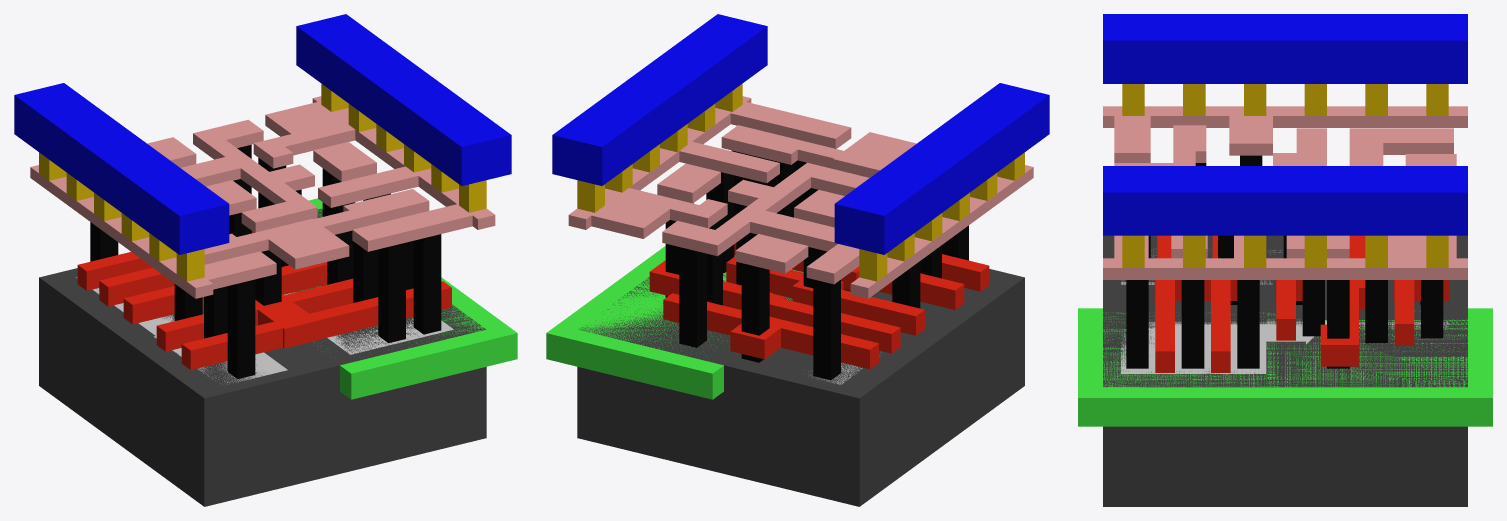
File: sky130_fd_sc_hd__and3_2.obj
The picture shows the model from 3 angles, left to right: view 1: azimuth 30°, elevation 25°; view 2: azimuth 150°, elevation 25°; view 3: azimuth 270°, elevation 25°; orthographic projection. The views are drawn at different scales.
Visible parts, largest first — view 1: subs, metal1, li, licon, poly, nwell, mcon, tap, diff; view 2: subs, metal1, li, poly, licon, nwell, mcon; view 3: metal1, subs, nwell, li, licon, poly, mcon, tap.
Part boxes in pixels (x1=…): subs: x1=39, y1=208, x2=486, y2=506; metal1: x1=14, y1=14, x2=511, y2=254; li: x1=30, y1=96, x2=495, y2=298; licon: x1=90, y1=144, x2=441, y2=378; poly: x1=77, y1=231, x2=451, y2=369; nwell: x1=295, y1=198, x2=517, y2=399; mcon: x1=39, y1=83, x2=486, y2=281; tap: x1=284, y1=292, x2=453, y2=354; diff: x1=76, y1=277, x2=287, y2=385; subs: x1=577, y1=256, x2=1024, y2=506; metal1: x1=552, y1=14, x2=1049, y2=254; li: x1=568, y1=96, x2=1033, y2=298; poly: x1=649, y1=243, x2=989, y2=369; licon: x1=665, y1=150, x2=968, y2=380; nwell: x1=546, y1=246, x2=803, y2=399; mcon: x1=577, y1=83, x2=1024, y2=281; metal1: x1=1103, y1=14, x2=1467, y2=235; subs: x1=1103, y1=235, x2=1467, y2=506; nwell: x1=1078, y1=308, x2=1492, y2=426; li: x1=1103, y1=106, x2=1467, y2=279; licon: x1=1126, y1=155, x2=1443, y2=368; poly: x1=1154, y1=235, x2=1449, y2=372; mcon: x1=1122, y1=84, x2=1448, y2=267; tap: x1=1121, y1=320, x2=1448, y2=373.
Bounding box in the file's own units: 3.2 × 2.74 × 3.14.
